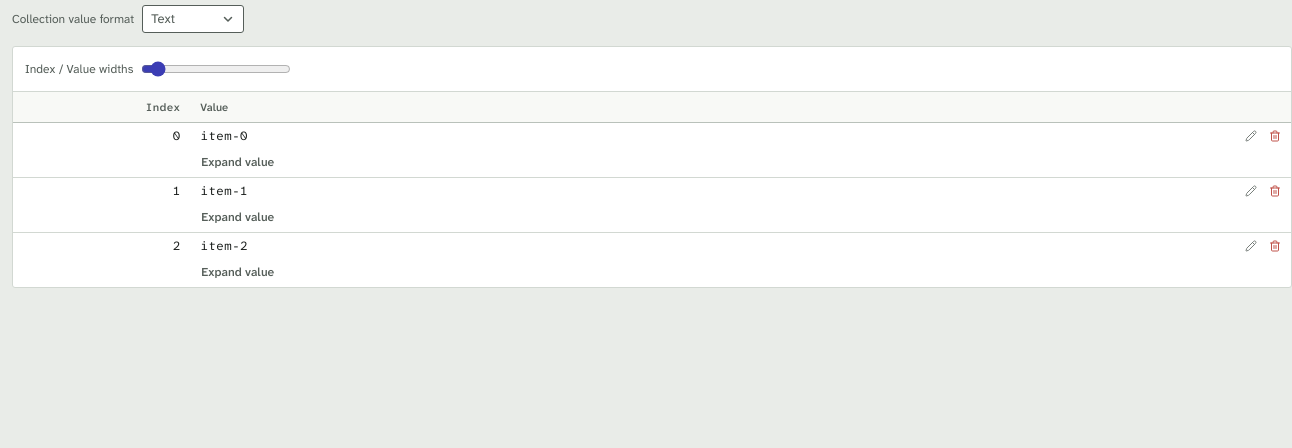
Test: web review round 1 › H1: a cached page change does not move an open list editor to another index
This screenshot has width=1292, height=448.
Step 1. Click the button named "Edit list index 0" → x=1251, y=136, box [1239, 124, 1263, 148]
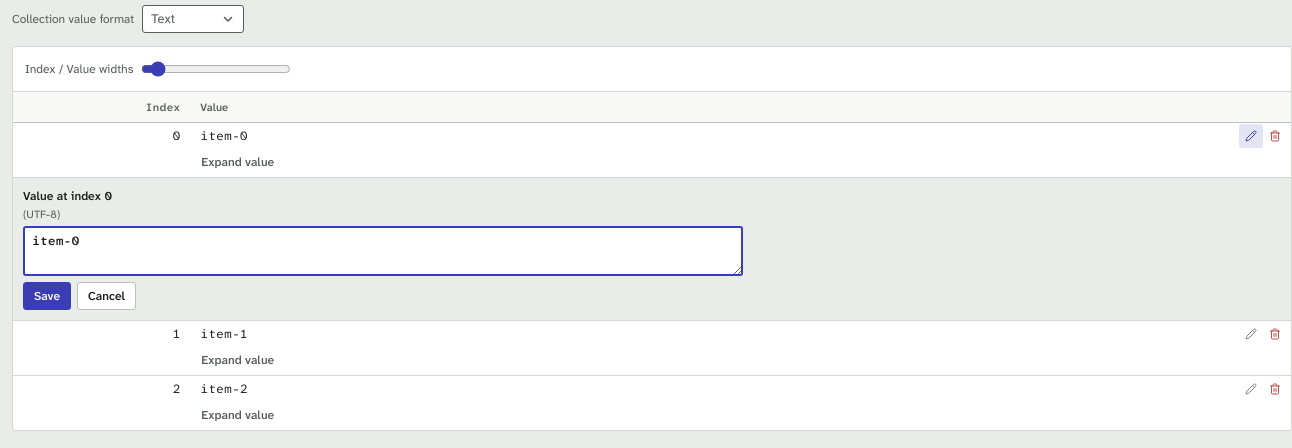
Expected: the text box labelled "Value at index 0" holds "item-0", [23, 226, 743, 276]
